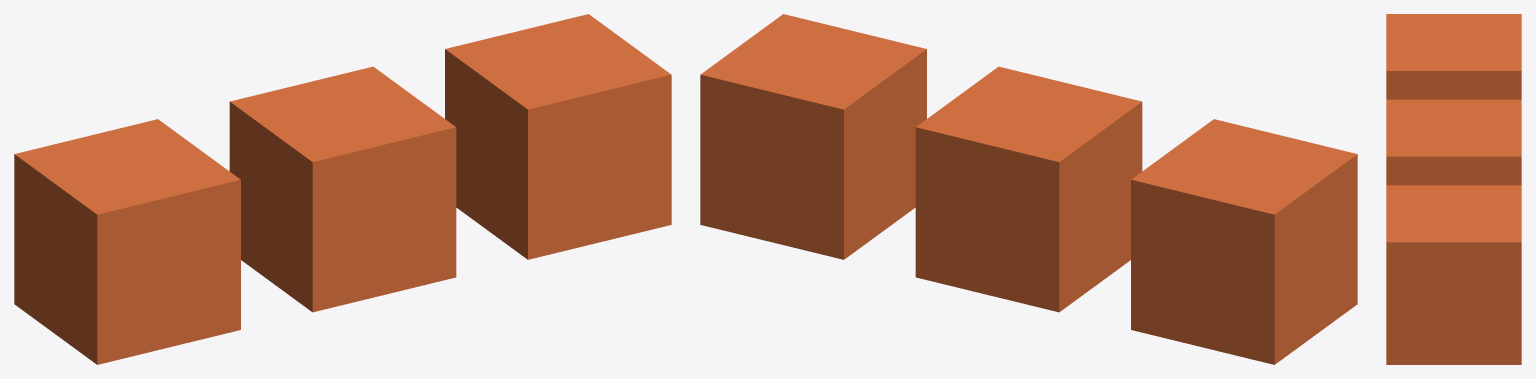
Rendered from multi-cube.fbx.
3 renders of one model, left to right at view 1: azimuth 30°, elevation 25°; view 2: azimuth 150°, elevation 25°; view 3: azimuth 270°, elevation 25°, orthographic. The views are drawn at different scales.
Visible parts, largest first — view 1: Cube.002, Cube.000, Cube.001; view 2: Cube.002, Cube.000, Cube.001; view 3: Cube.001, Cube.000, Cube.002.
Boxes of the visible parts, x1,y1,x2,y2 form: Cube.002: (14,119,240,364); Cube.000: (229,66,456,312); Cube.001: (445,14,671,259); Cube.002: (1131,119,1357,364); Cube.000: (915,66,1142,312); Cube.001: (700,14,926,259); Cube.001: (1386,185,1521,364); Cube.000: (1386,99,1521,185); Cube.002: (1386,14,1521,99).
Size of the model in its own units: 800 by 200 by 200.
